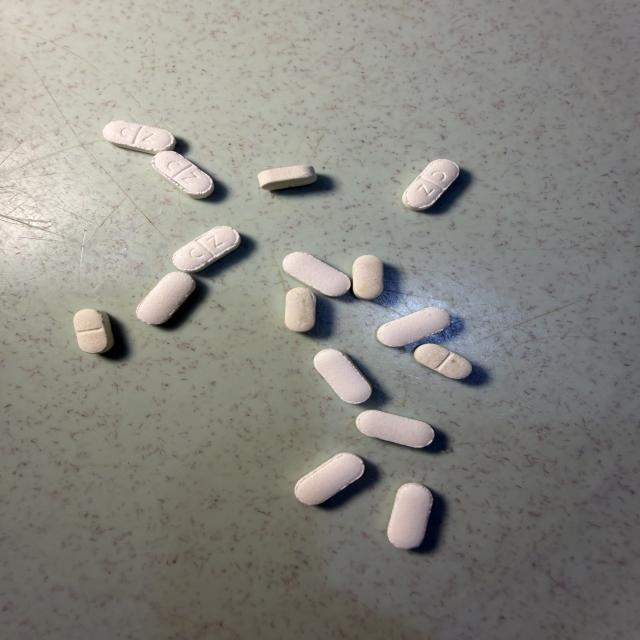pill: (295, 453, 364, 504), (314, 349, 372, 403), (173, 226, 240, 272), (137, 272, 195, 324), (283, 252, 350, 296), (152, 151, 214, 198), (388, 483, 432, 549), (356, 410, 434, 447), (403, 159, 459, 210), (377, 308, 450, 346), (103, 121, 175, 153), (414, 344, 472, 379), (74, 309, 113, 353), (258, 166, 317, 190), (285, 288, 316, 332), (353, 255, 383, 299)
